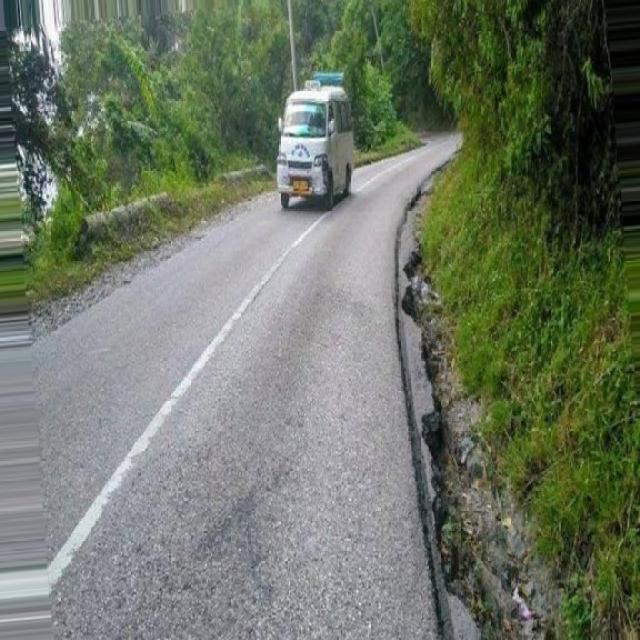Pinggir: (374, 189, 533, 640)
